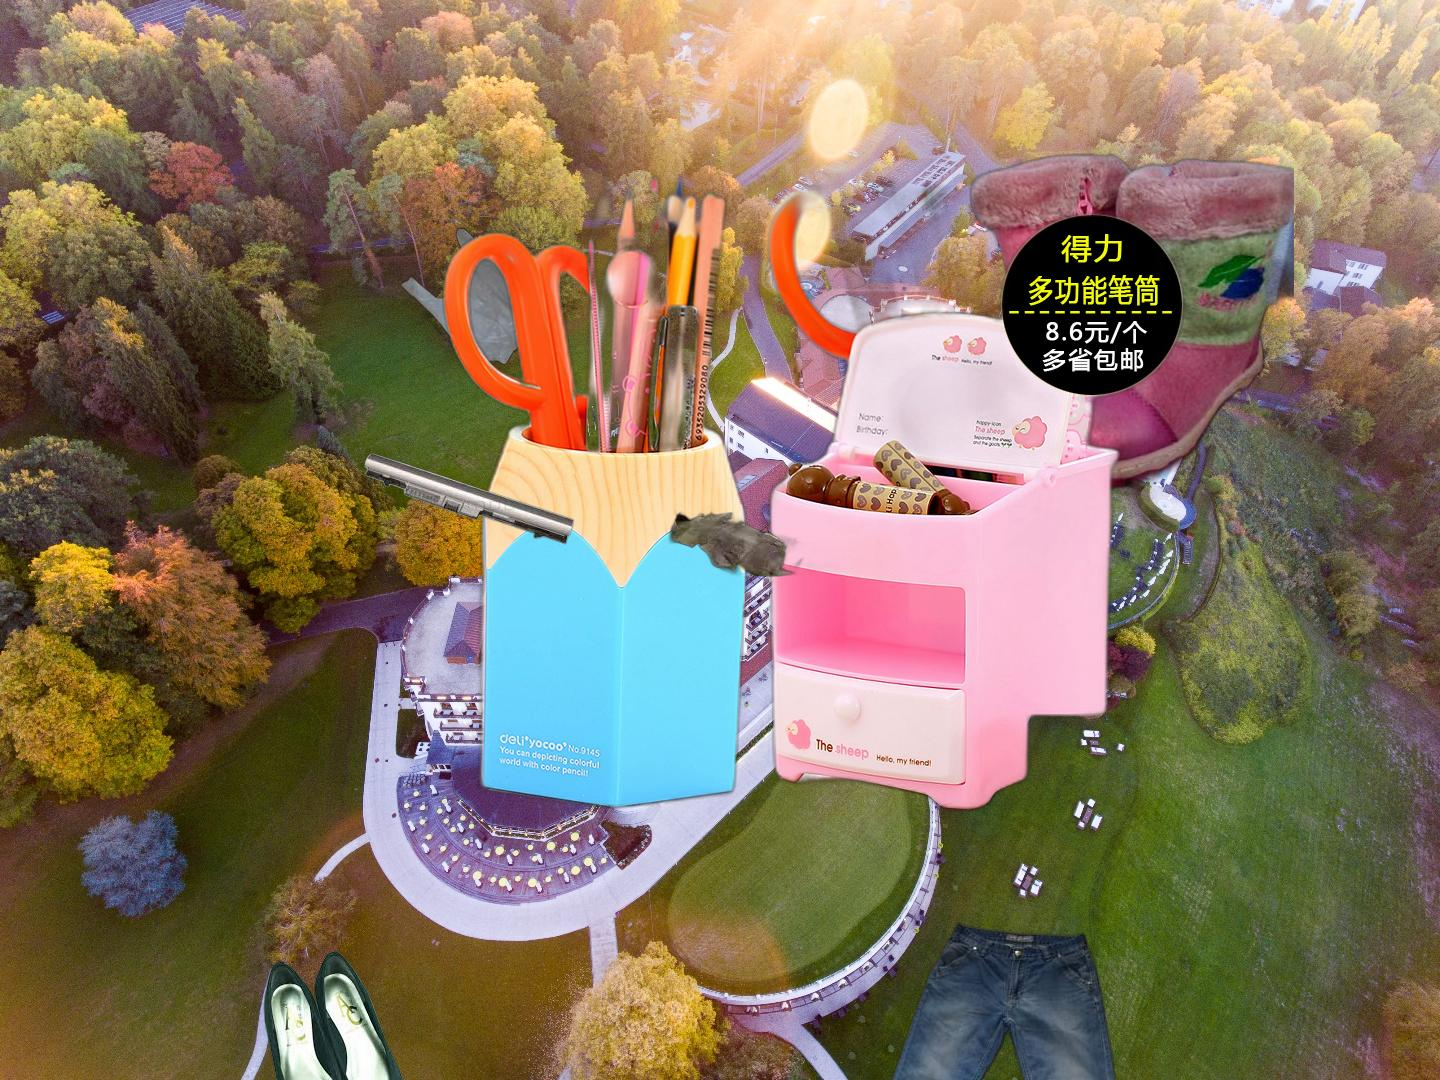battery: (327, 449, 577, 594)
biological: (660, 505, 852, 579)
clothes: (829, 918, 1136, 1080)
penholder: (437, 164, 1191, 816)
plastic-bag: (396, 227, 550, 381)
shoes: (893, 149, 1294, 493), (261, 948, 414, 1080)
